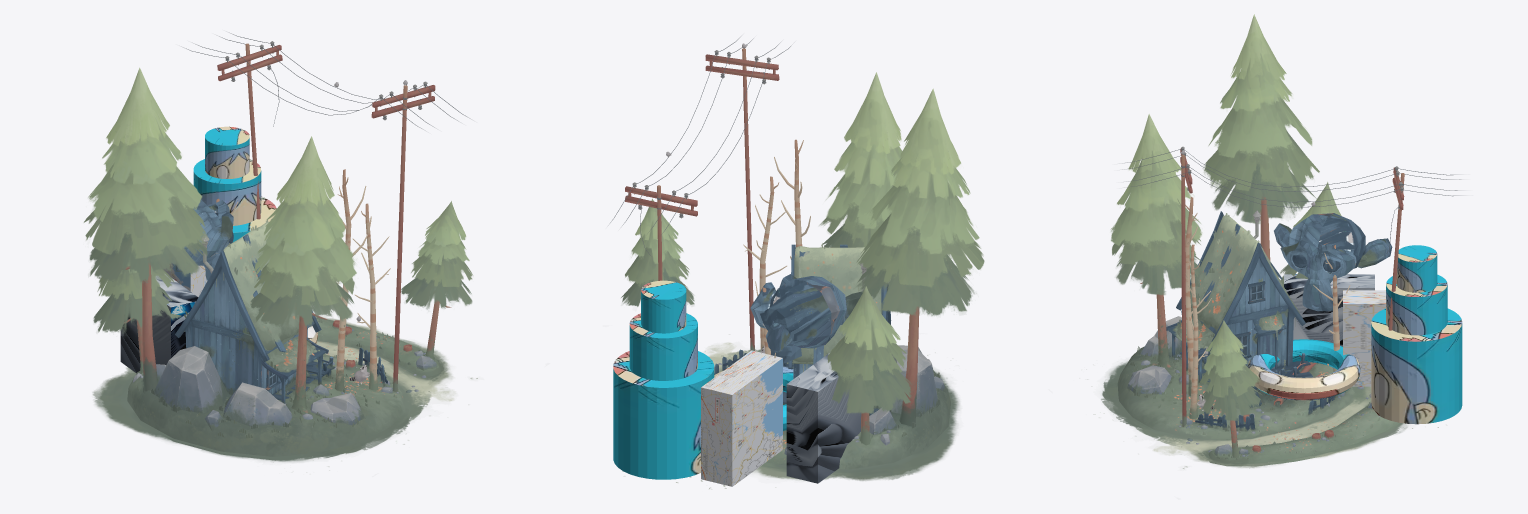
The picture shows the model from 3 angles, left to right: view 1: azimuth 30°, elevation 25°; view 2: azimuth 150°, elevation 25°; view 3: azimuth 270°, elevation 25°; orthographic projection. The views are drawn at different scales.
Visible parts, largest first — view 1: RedwoodAlpha, Ground, Rocks, House, GroundPlane, Powerlines, cube2, RoofMoss, Redwood, Cylinder.001, Cylinder.002, Suzanne (+5 smaller); view 2: RedwoodAlpha, cube2, Cylinder, Suzanne, Powerlines, Ground, Cylinder.001, GroundPlane, RoofMoss, Cylinder.002, Rocks, Redwood (+3 smaller); view 3: RedwoodAlpha, Ground, Cylinder, Suzanne, GroundPlane, cube2, House, Torus, RoofMoss, Powerlines, Cylinder.001, Rocks (+8 smaller).
Boxes of the visible parts, x1=… form: RedwoodAlpha: x1=83, y1=67, x2=473, y2=335; Ground: x1=127, y1=318, x2=440, y2=460; Rocks: x1=154, y1=346, x2=437, y2=431; House: x1=175, y1=250, x2=321, y2=394; GroundPlane: x1=92, y1=318, x2=477, y2=470; Powerlines: x1=217, y1=41, x2=435, y2=391; cube2: x1=120, y1=263, x2=207, y2=373; RoofMoss: x1=223, y1=222, x2=299, y2=349; Redwood: x1=124, y1=263, x2=451, y2=413; Cylinder.001: x1=193, y1=159, x2=261, y2=225; Cylinder.002: x1=205, y1=126, x2=249, y2=178; Suzanne: x1=174, y1=199, x2=233, y2=280; RedwoodAlpha: x1=621, y1=72, x2=984, y2=413; cube2: x1=701, y1=350, x2=861, y2=486; Cylinder: x1=613, y1=351, x2=714, y2=479; Suzanne: x1=750, y1=274, x2=862, y2=363; Powerlines: x1=625, y1=48, x2=779, y2=350; Ground: x1=766, y1=362, x2=950, y2=469; Cylinder.001: x1=629, y1=313, x2=697, y2=380; GroundPlane: x1=622, y1=334, x2=959, y2=489; RoofMoss: x1=793, y1=246, x2=881, y2=362; Cylinder.002: x1=641, y1=280, x2=686, y2=333; Rocks: x1=784, y1=345, x2=945, y2=454; Redwood: x1=860, y1=306, x2=927, y2=445; RedwoodAlpha: x1=1110, y1=14, x2=1341, y2=420; Ground: x1=1117, y1=346, x2=1397, y2=466; Cylinder: x1=1371, y1=308, x2=1462, y2=424; Suzanne: x1=1274, y1=213, x2=1392, y2=311; GroundPlane: x1=1087, y1=361, x2=1438, y2=468; cube2: x1=1284, y1=274, x2=1385, y2=386; House: x1=1176, y1=211, x2=1305, y2=369; Torus: x1=1247, y1=339, x2=1360, y2=400; RoofMoss: x1=1190, y1=215, x2=1299, y2=328; Powerlines: x1=1180, y1=146, x2=1404, y2=426; Cylinder.001: x1=1386, y1=274, x2=1447, y2=335; Rocks: x1=1127, y1=316, x2=1371, y2=456.
Size of the model in its own units: 10.34 by 7.89 by 10.8.
Materials: 17 (17 with a texture image).
